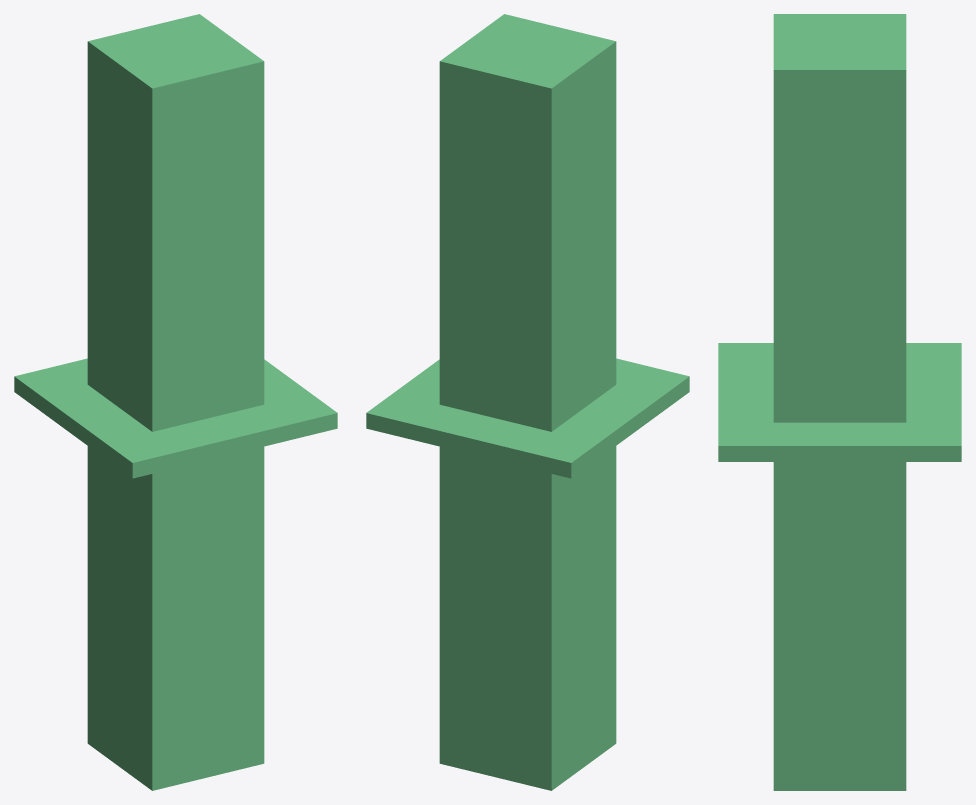
Rendered from player_gauge_1p8.glb.
3 renders of one model, left to right at view 1: azimuth 30°, elevation 25°; view 2: azimuth 150°, elevation 25°; view 3: azimuth 270°, elevation 25°, orthographic. The views are drawn at different scales.
Parts seen in each view (by area): view 1: player_gauge_1p8; view 2: player_gauge_1p8; view 3: player_gauge_1p8.
Part boxes in pixels (bbox=[...]): player_gauge_1p8: bbox=[14, 14, 337, 790]; player_gauge_1p8: bbox=[366, 14, 689, 790]; player_gauge_1p8: bbox=[718, 14, 961, 790].
Size of the model in its own units: 0.55 by 1.8 by 0.55.
